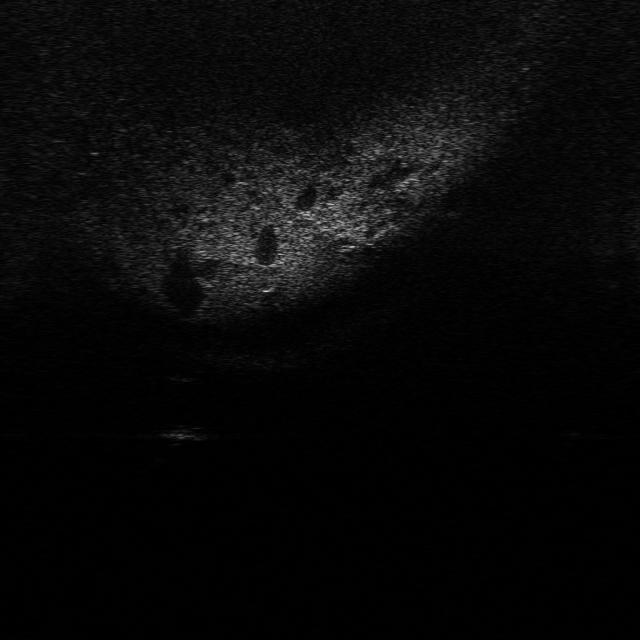ball: (250, 269, 284, 296)
cube: (156, 419, 207, 446)
